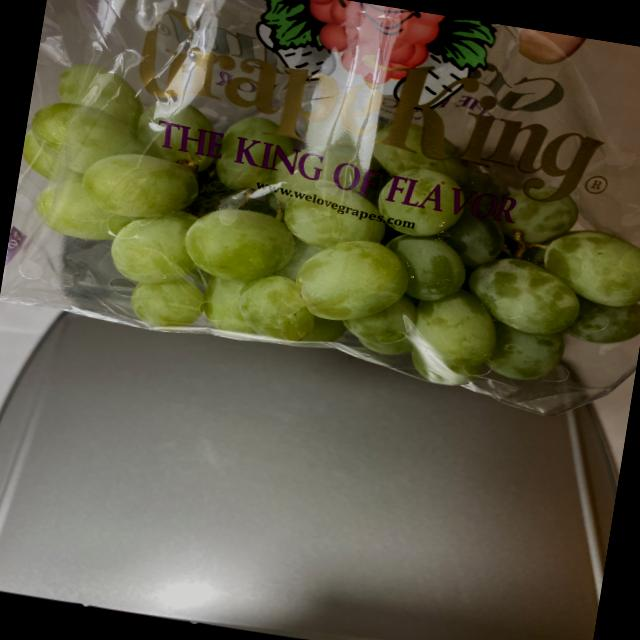grapes: (0, 64, 640, 422)
